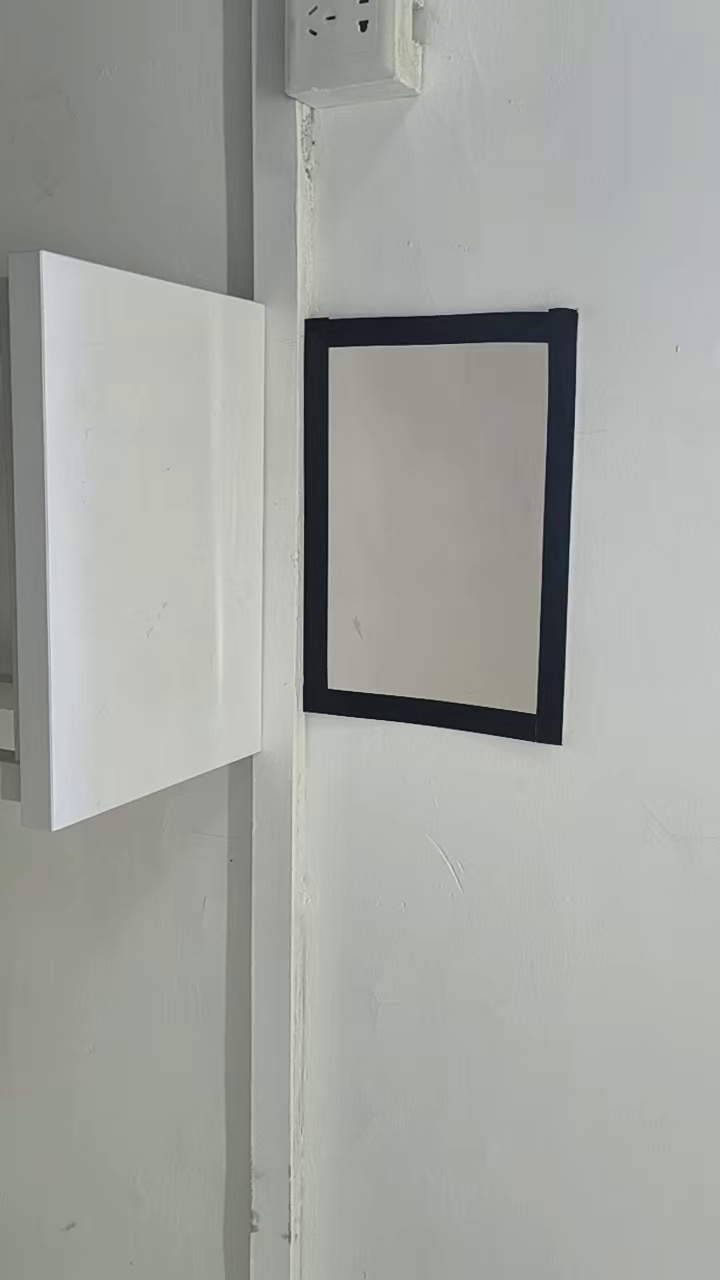board: (305, 309, 576, 741)
